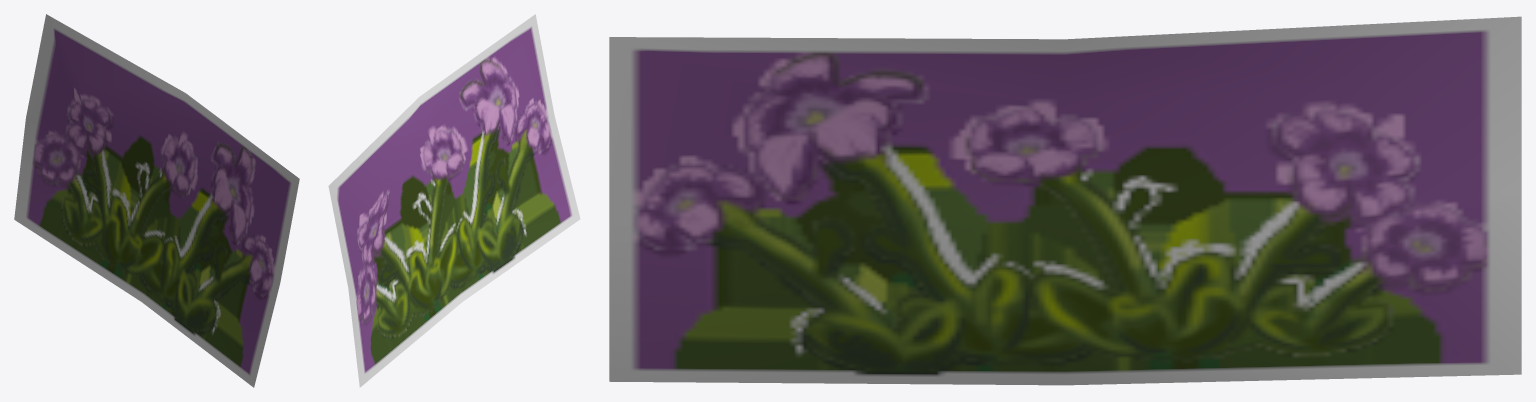
The model's file is Flower4.fbx.
The picture shows the model from 3 angles, left to right: view 1: azimuth 30°, elevation 25°; view 2: azimuth 150°, elevation 25°; view 3: azimuth 270°, elevation 25°; orthographic projection. The views are drawn at different scales.
Parts seen in each view (by area): view 1: Flower4; view 2: Flower4; view 3: Flower4.
Boxes of the visible parts, x1,y1,x2,y2 form: Flower4: [14, 14, 299, 387]; Flower4: [328, 14, 580, 387]; Flower4: [609, 16, 1521, 385].
Size of the model in its own units: 0.1229 by 0.4183 by 0.8901.
Materials: 1 (1 with a texture image).
